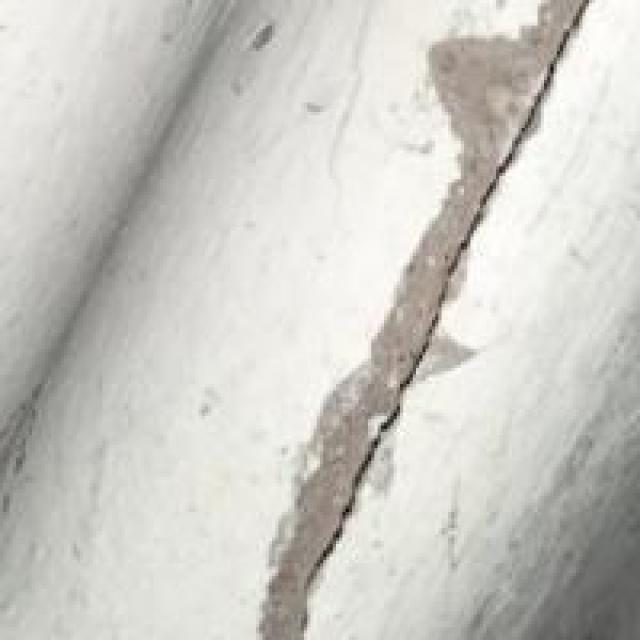crack: (278, 6, 608, 636)
